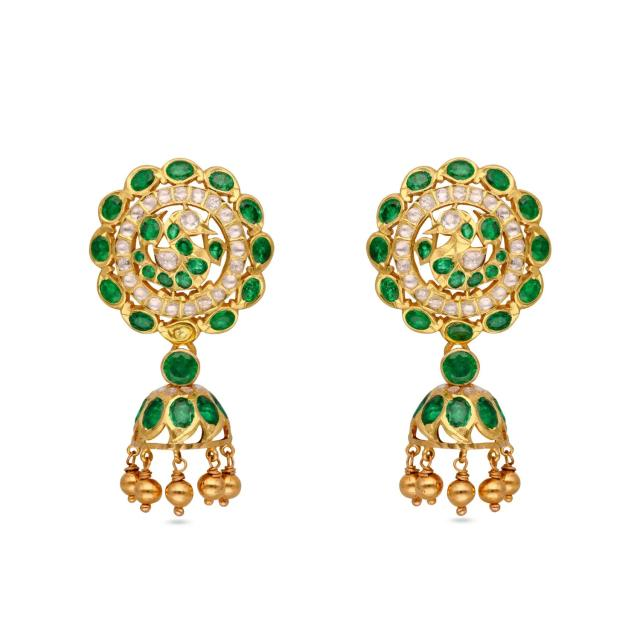missing gem: (170, 325, 194, 340), (446, 239, 466, 255)
